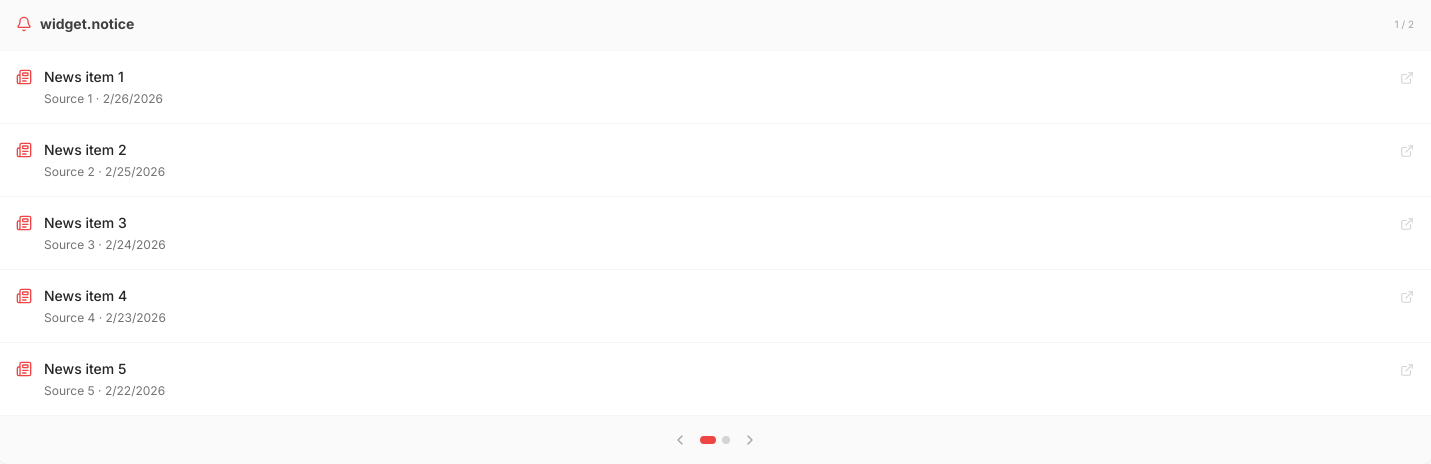
Test: NoticeWidget › navigates via dot button click
Click dot for page 2
Click the button named "Page 2": coordinates (726, 440) x1=722 y1=436 x2=730 y2=444
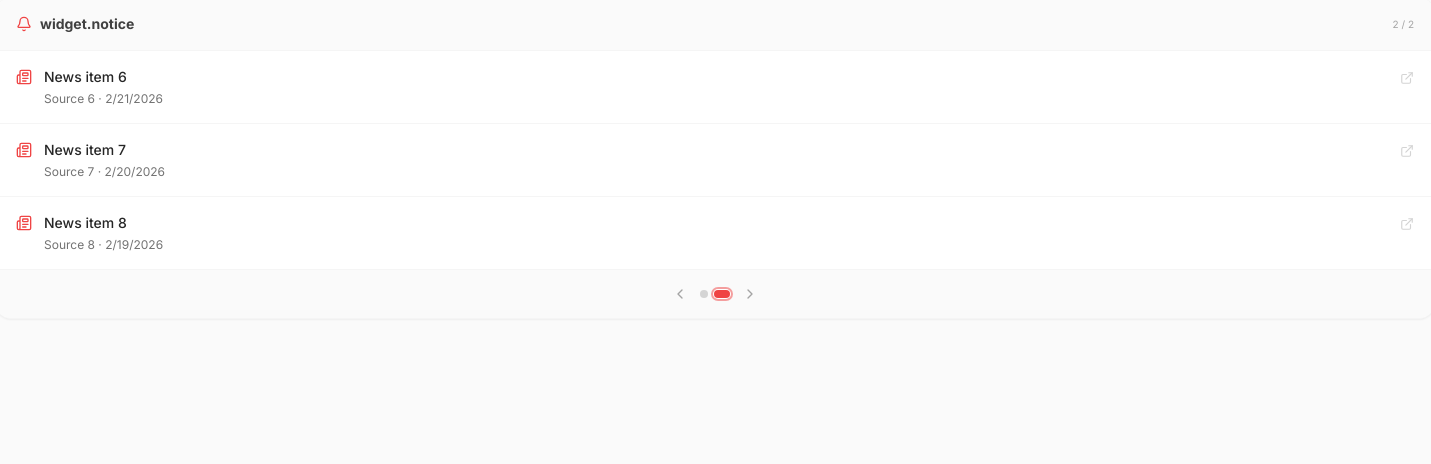
Result: the text "News item 6" is shown at x1=44 y1=68 x2=127 y2=85
Result: the text "2 / 2" is shown at x1=1392 y1=16 x2=1414 y2=32
Click dot for page 1
Click the button named "Page 1": coordinates (704, 294) x1=700 y1=290 x2=708 y2=298
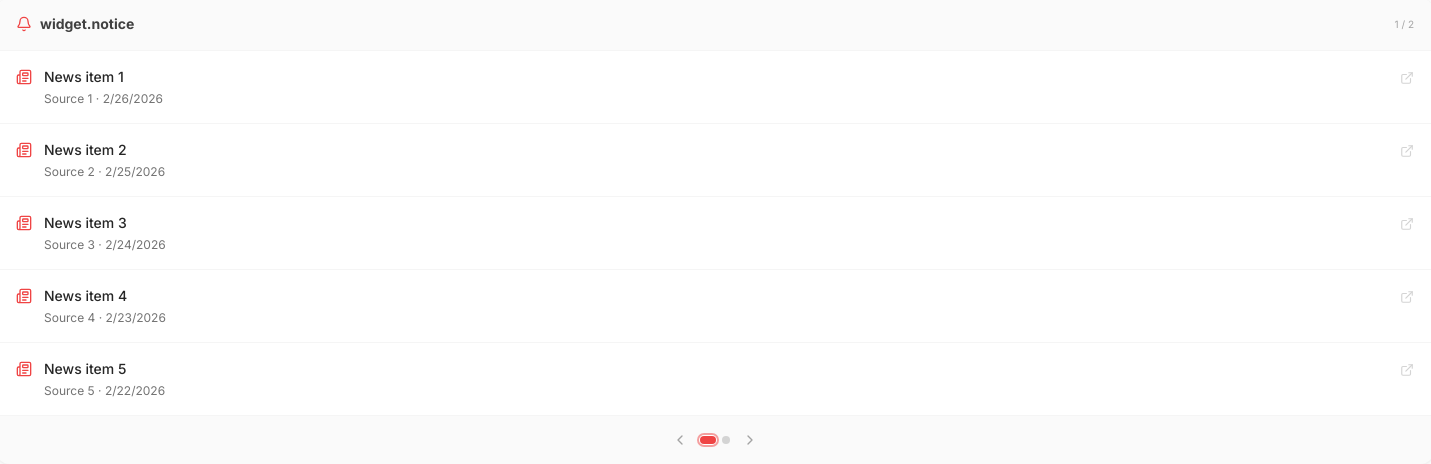
Result: the text "News item 1" is shown at x1=44 y1=68 x2=124 y2=85
Result: the text "1 / 2" is shown at x1=1395 y1=16 x2=1414 y2=32
